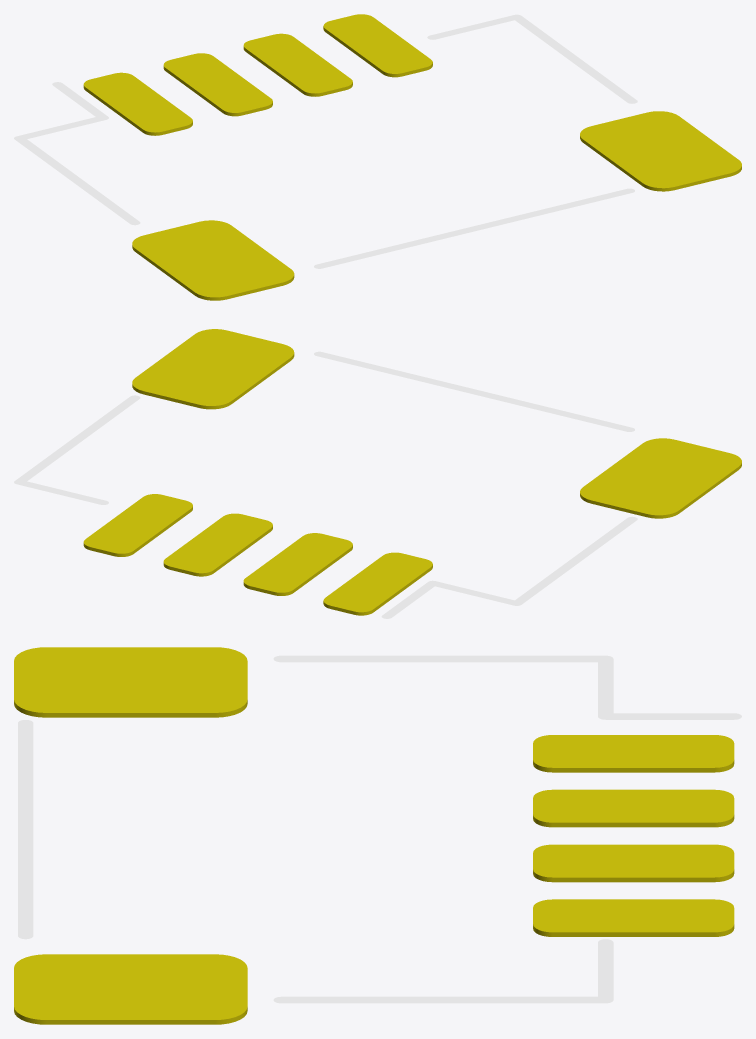
File: Connector_JST__JST_SH_SM04B-SRSS-TB_1x04-1MP_P1.00mm_Horizontal.glb
The picture shows the model from 3 angles, top to bottom: view 1: azimuth 30°, elevation 25°; view 2: azimuth 150°, elevation 25°; view 3: azimuth 270°, elevation 25°; orthographic projection. The views are drawn at different scales.
Visible parts, largest first — view 1: Connector_JST__JST_SH_SM04B-SRSS-TB_1x04-1MP_P1.00mm_Horizon (×2); view 2: Connector_JST__JST_SH_SM04B-SRSS-TB_1x04-1MP_P1.00mm_Horizon (×2); view 3: Connector_JST__JST_SH_SM04B-SRSS-TB_1x04-1MP_P1.00mm_Horizon (×2).
Part boxes in pixels (x1,y1,x2,y2): Connector_JST__JST_SH_SM04B-SRSS-TB_1x04-1MP_P1.00mm_Horizon (×2): (14,14,741,300); Connector_JST__JST_SH_SM04B-SRSS-TB_1x04-1MP_P1.00mm_Horizon (×2): (14,329,741,618); Connector_JST__JST_SH_SM04B-SRSS-TB_1x04-1MP_P1.00mm_Horizon (×2): (14,647,741,1024).
Size of the model in its own units: 0.0068 by 7.49e-05 by 0.00561.
